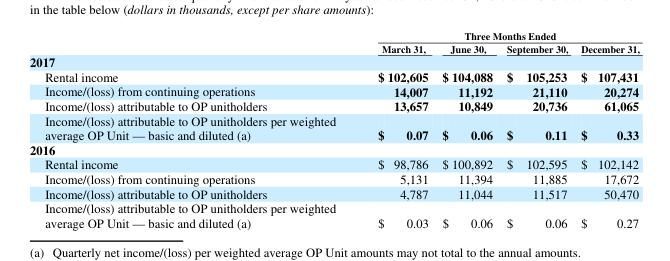table: (29, 28, 639, 230)
table column: (29, 28, 356, 230), (356, 28, 434, 230), (499, 28, 573, 230), (573, 28, 639, 230), (434, 28, 499, 230)
table column header: (29, 28, 639, 54)
table projected row header: (29, 54, 639, 69), (29, 142, 639, 156)
table row: (29, 199, 639, 230), (29, 112, 639, 142), (29, 54, 639, 69), (29, 83, 639, 98), (29, 170, 639, 185), (29, 28, 639, 42), (29, 69, 639, 83), (29, 98, 639, 112), (29, 142, 639, 156), (29, 156, 639, 170), (29, 185, 639, 199), (29, 42, 639, 54)
table spanning cell: (356, 28, 639, 42)
